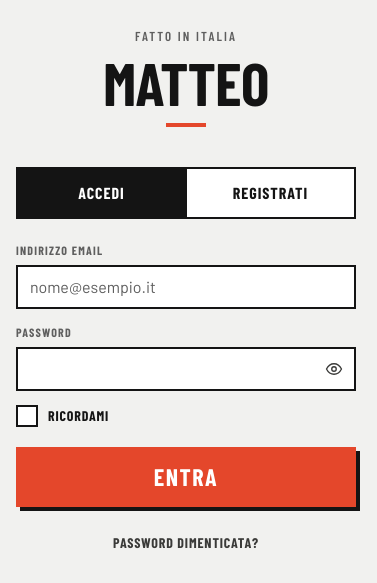
it: il form di accesso › in cima si sceglie fra accedere e registrarsi
The width and height of the screenshot is (377, 583).
expect the field labelled "Indirizzo email" is shown: met, box [16,265,356,309]
expect the field labelled "Conferma password" is not shown: met
Click the tab "Registrati": (270, 193) [185,169,354,217]
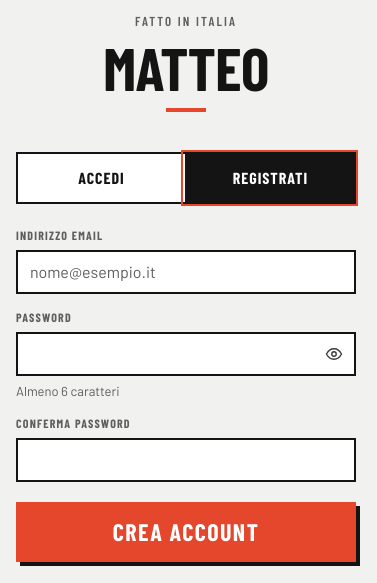
expect the password field labelled "Conferma password" is shown: met, box [16,438,356,482]
expect the text "Almeno 6 caratteri" is shown: met, box [16,383,120,399]
expect the button "Crea account" is shown: met, box [16,502,356,562]
